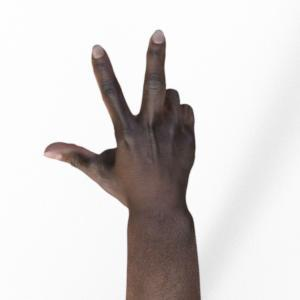scissors: (45, 30, 200, 300)
